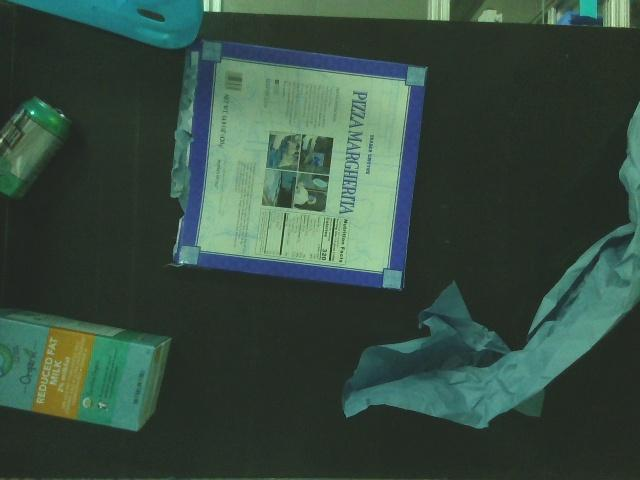cardboard: (164, 34, 433, 298), (0, 303, 175, 437)
metal: (0, 88, 76, 212)
paper: (335, 90, 640, 429)
